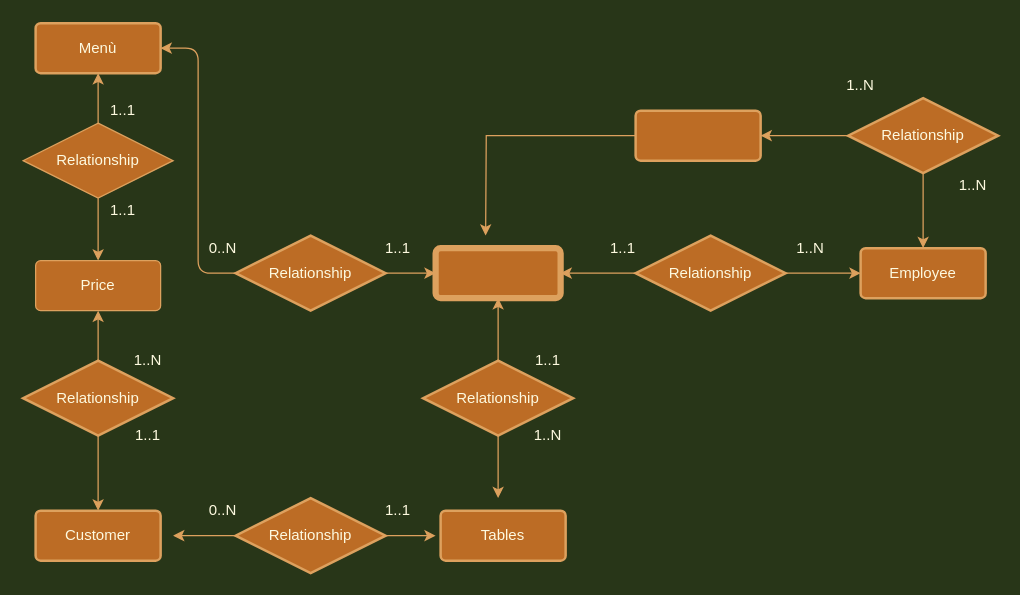
The diagram is 1020 pixels wide and 595 high, and some of its shapes have lost their labels. The box of each missing label's shape, as (x1, y1, x2, y2) in pixels:
Owner: (634, 109, 761, 161)
RESTAURANT: (432, 244, 563, 301)
